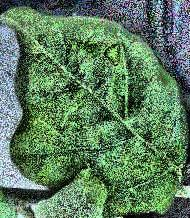HEALTHY: (1, 1, 190, 218)
